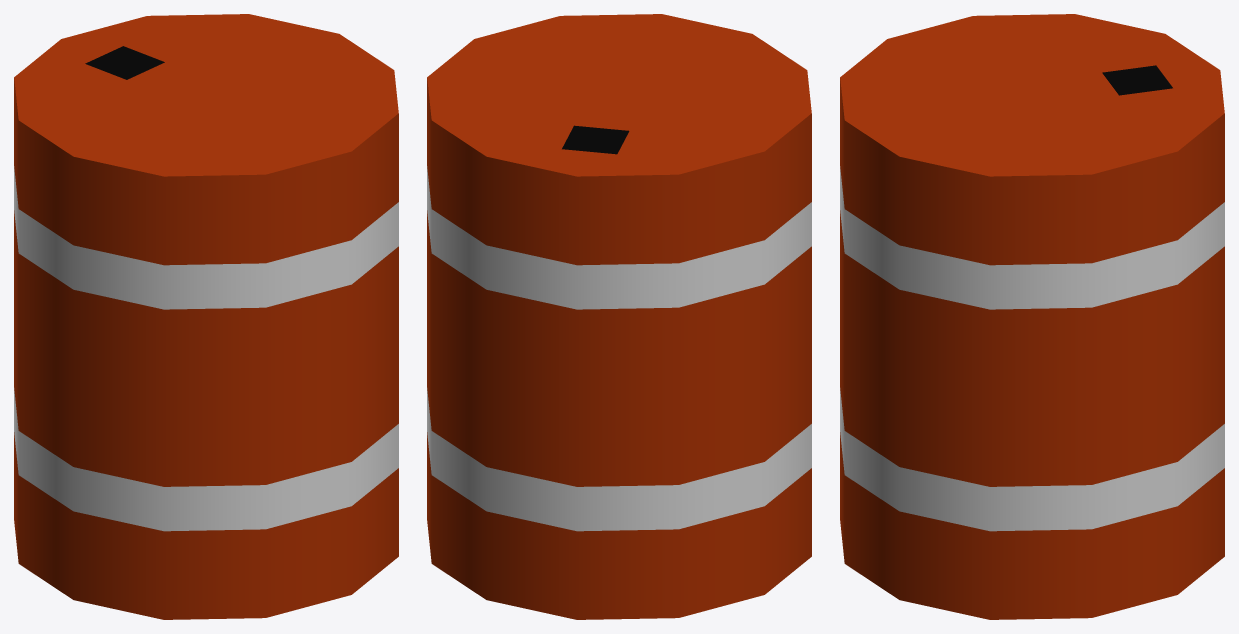
Rendered from barrel_red.fbx.
3 renders of one model, left to right at view 1: azimuth 30°, elevation 25°; view 2: azimuth 150°, elevation 25°; view 3: azimuth 270°, elevation 25°, orthographic.
Visible parts, largest first — view 1: barrel_red; view 2: barrel_red; view 3: barrel_red.
Boxes of the visible parts, bbox=[...] form: barrel_red: bbox=[14, 14, 398, 619]; barrel_red: bbox=[427, 14, 811, 619]; barrel_red: bbox=[840, 14, 1224, 619].
Size of the model in its own units: 92.27 by 118 by 92.27.
